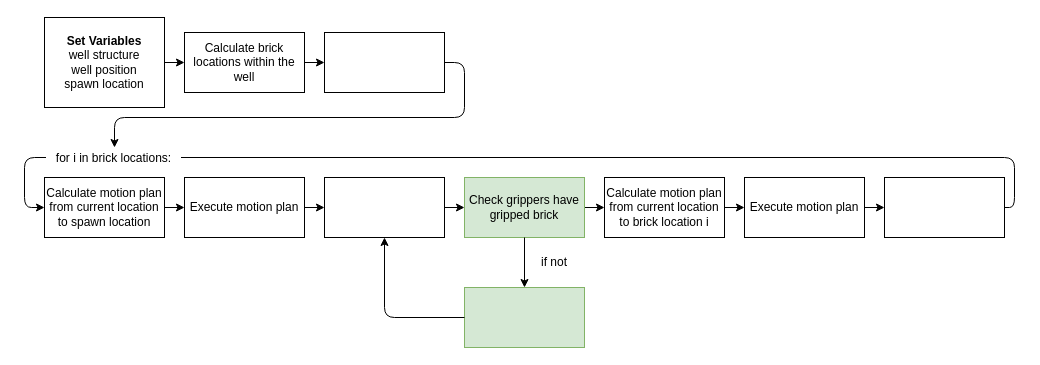
Image size: 1040x365. Some labels were removed from this diagram. Here are the shapes that lost their labels. From the top down, the centre of each, then its label:
At point 384,62: "Move arm to starting location".
At point 384,207: "Close gripper".
At point 944,207: "Open grippers".
At point 524,317: "Open grippers, pause 5 seconds".
